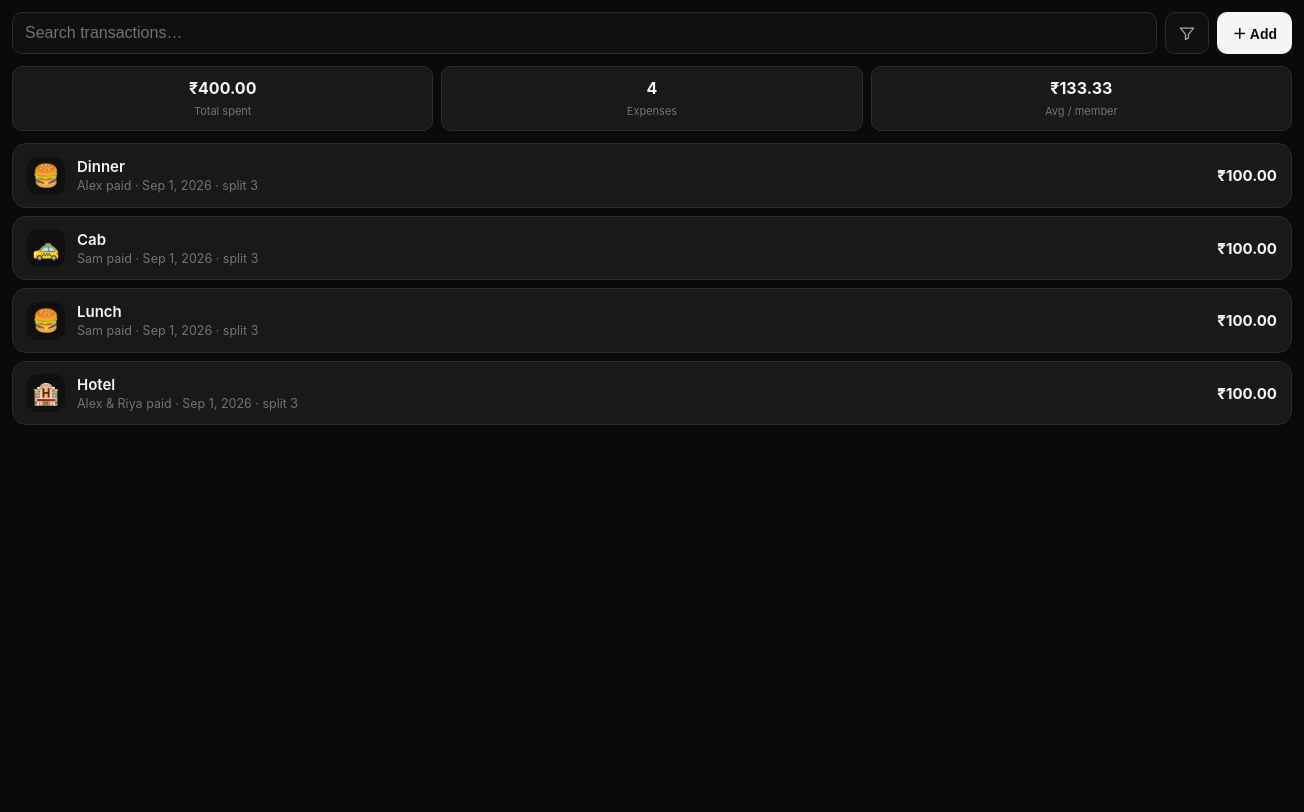
Scenario: TransactionsPanel filters › keeps the panel closed until the filter button is tapped
Expected: the text "Category" is not shown
What coordinates should you click on to do the following:
click the button named "Filters"
I would click on:
 (1187, 33)
Its box is top-left (1165, 12), bottom-right (1209, 54).
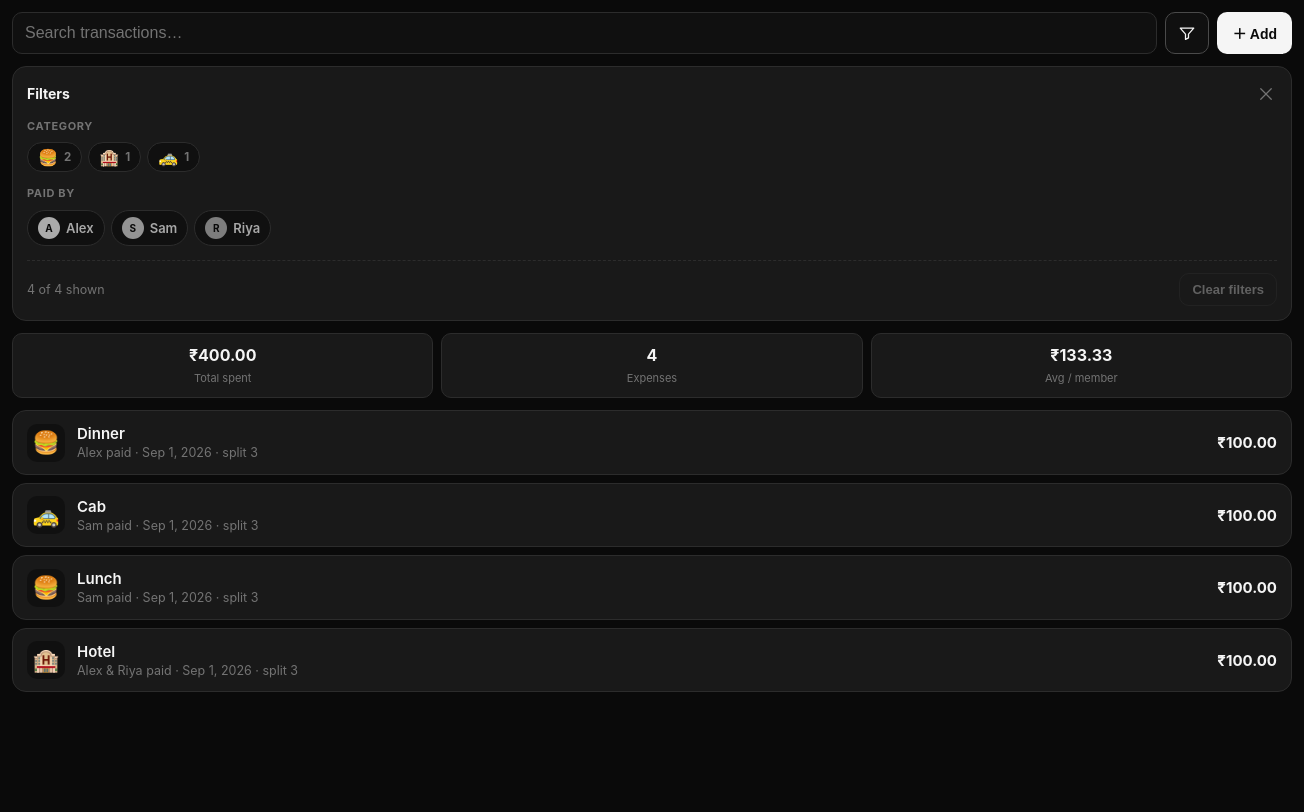
Expected: the text "Category" is shown, top-left (27, 119), bottom-right (93, 133)
Expected: the text "Paid by" is shown, top-left (27, 186), bottom-right (75, 200)
